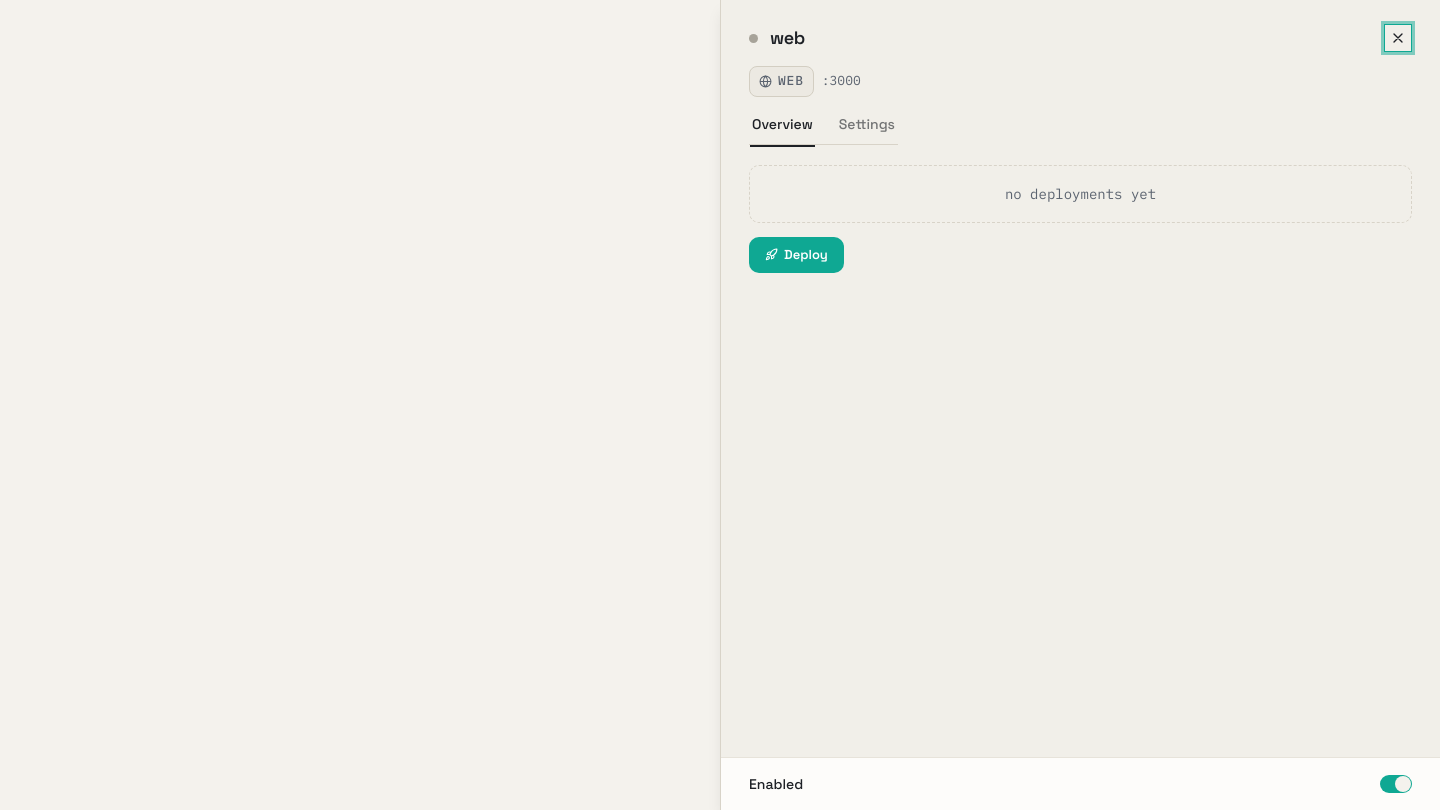
Test case: ServiceDetailPanel › closes the confirmation modal without disabling when Keep running is clicked
expect the text "no deployments yet" is shown: met, box [1005,185,1156,203]
Step 1. Click the switch named "Disable service" → (1396,784), box [1380,775,1412,793]
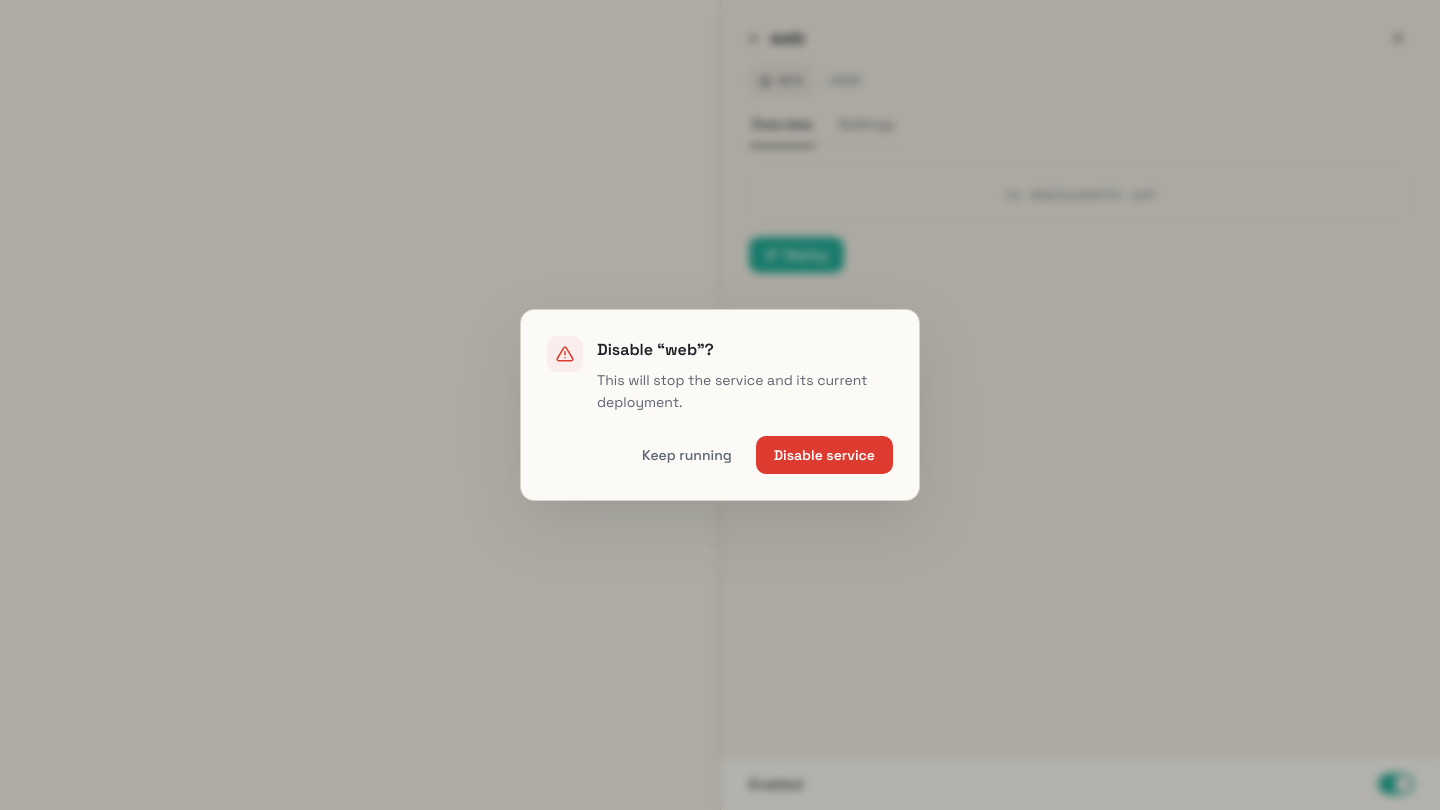
expect the text "This will stop the service and its current deployment." is shown: met, box [597,370,893,414]
Step 2. Click the button "Keep running" → (687,455), box [628,436,746,474]
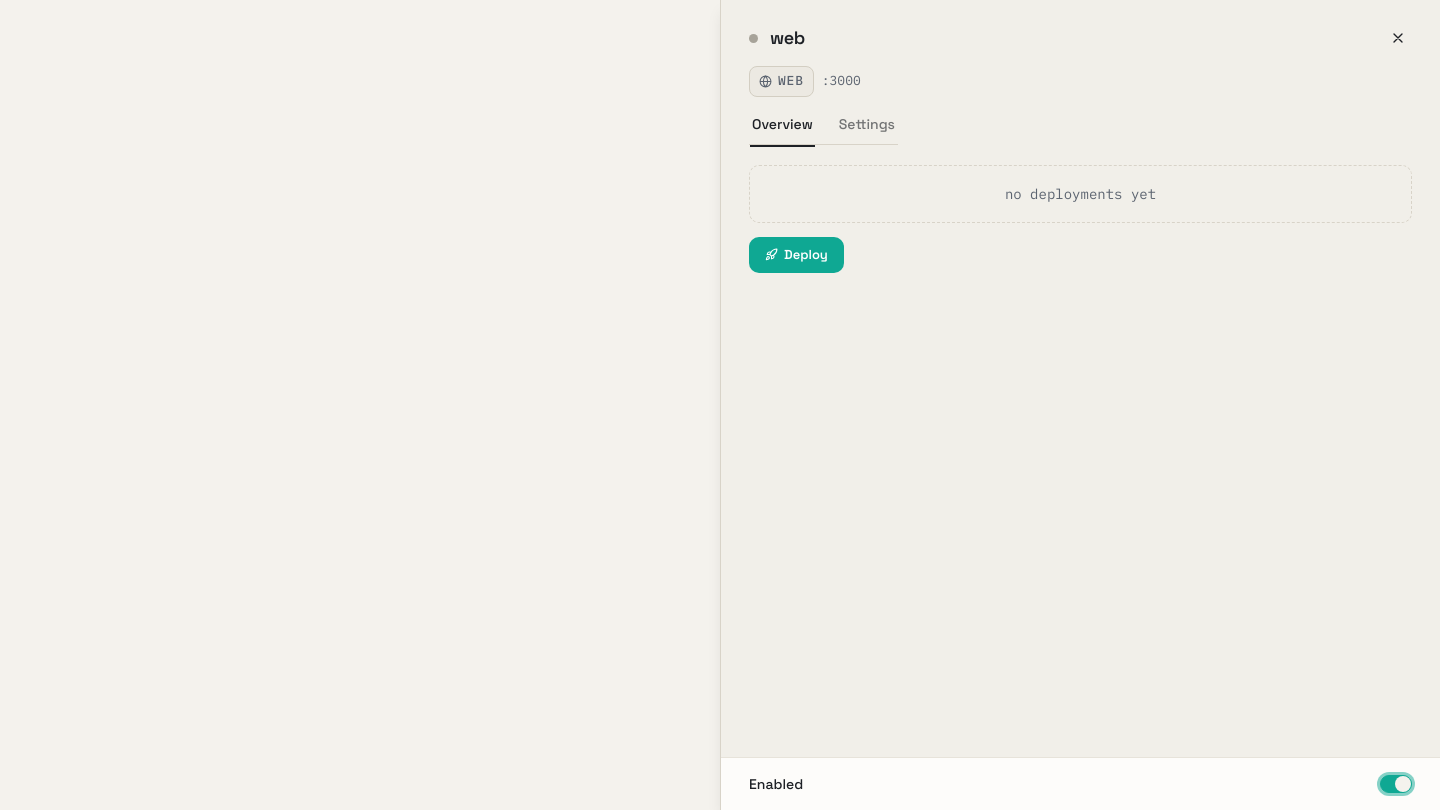
expect the text "This will stop the service" is gone: met
